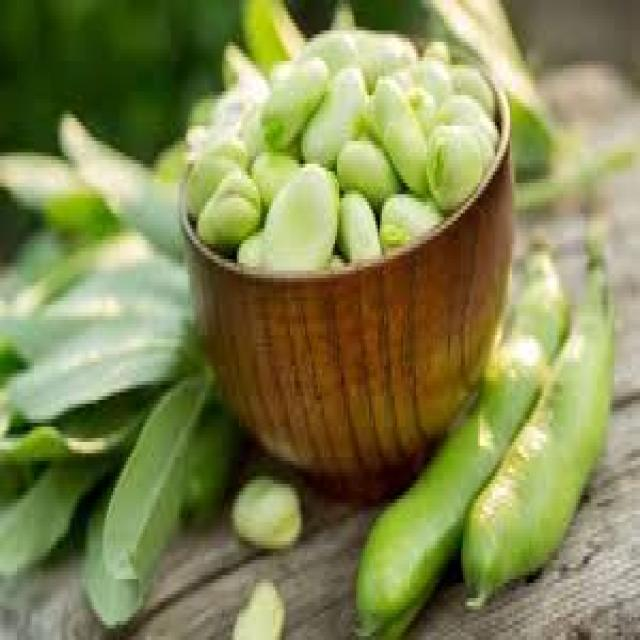Beans: (358, 230, 598, 635), (182, 32, 490, 268), (218, 443, 318, 541), (224, 575, 336, 640)
